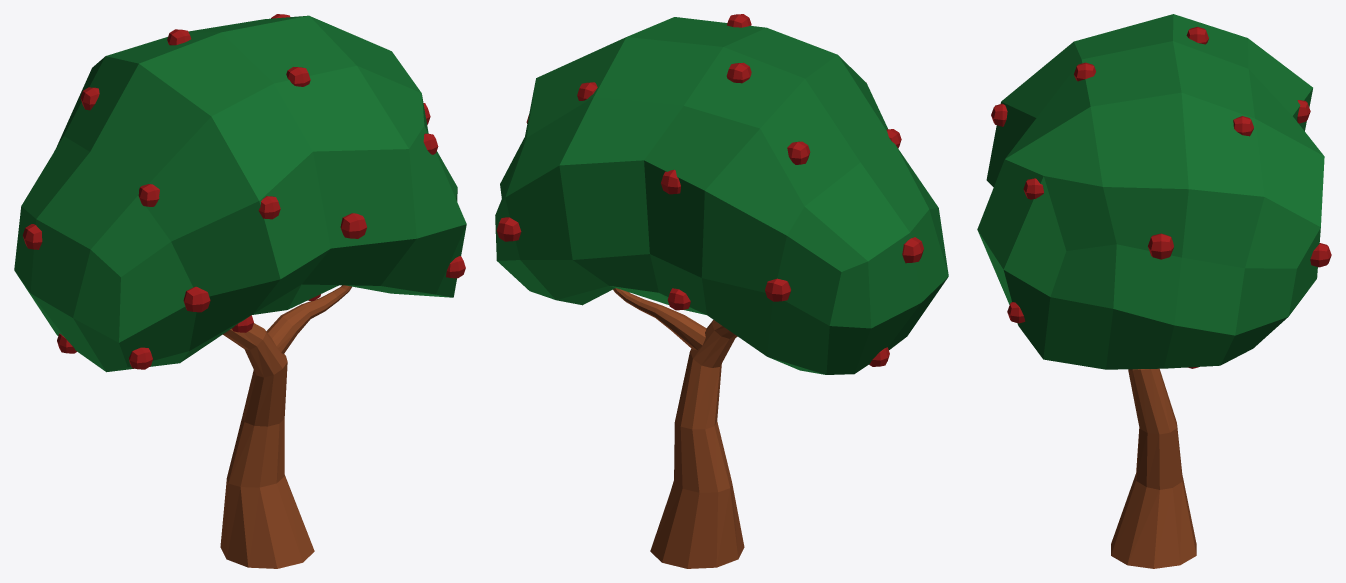
The model's file is AppleTree_FBX.fbx.
3 renders of one model, left to right at view 1: azimuth 30°, elevation 25°; view 2: azimuth 150°, elevation 25°; view 3: azimuth 270°, elevation 25°, orthographic. The views are drawn at different scales.
Parts seen in each view (by area): view 1: GeoSphere001, Cylinder003, Cylinder004, Apple_004; view 2: GeoSphere001, Cylinder003, Cylinder004; view 3: GeoSphere001, Cylinder003, Apple_011.
Part boxes in pixels (bbox=[...]): GeoSphere001: bbox=[14, 15, 466, 372]; Cylinder003: bbox=[220, 323, 314, 568]; Cylinder004: bbox=[266, 285, 351, 353]; Apple_004: bbox=[340, 213, 367, 238]; GeoSphere001: bbox=[495, 17, 948, 374]; Cylinder003: bbox=[650, 320, 744, 568]; Cylinder004: bbox=[613, 288, 706, 350]; GeoSphere001: bbox=[977, 14, 1324, 369]; Cylinder003: bbox=[1111, 368, 1196, 568]; Apple_011: bbox=[1148, 233, 1173, 259].
Bounding box in the file's own units: 586 × 691 × 451.
